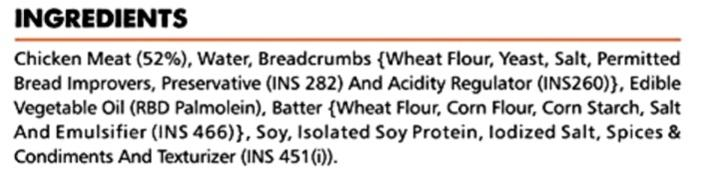ingredients: (8, 2, 704, 175)
